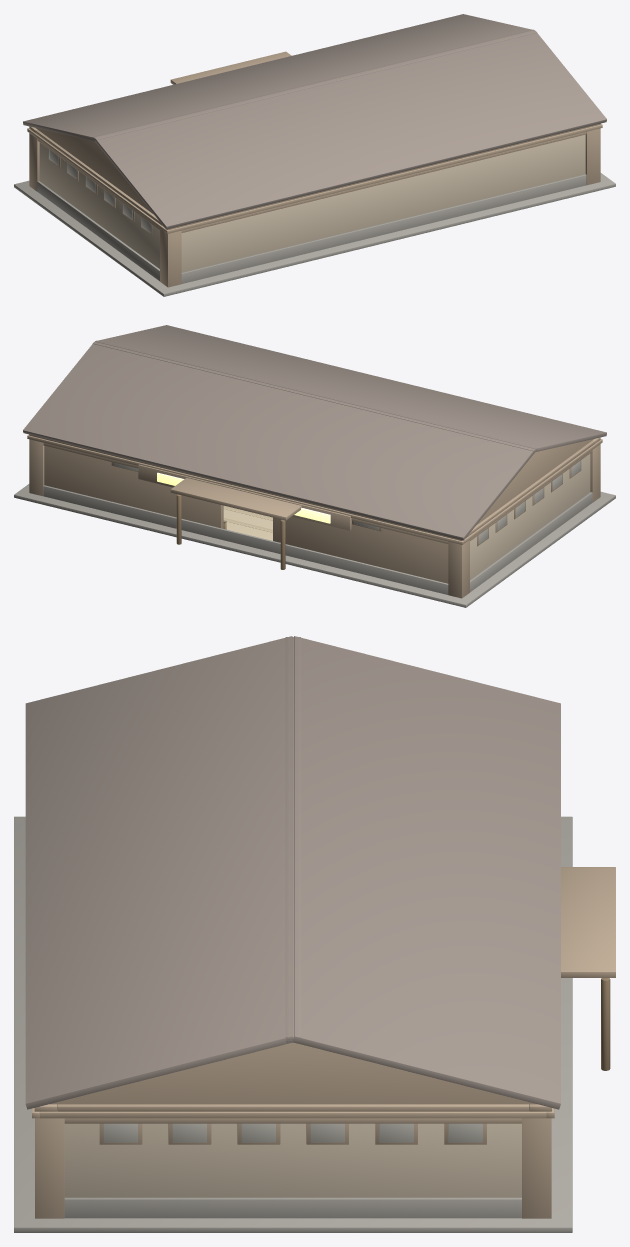
The model's file is th19_reithalle.glb.
3 views of the same model, one above another, from view 1: azimuth 30°, elevation 25°; view 2: azimuth 150°, elevation 25°; view 3: azimuth 270°, elevation 25° (orthographic). The views are drawn at different scales.
Parts seen in each view (by area): view 1: Cube.496, Cube.437, Cube.497, Cube, Cube.444, Cube.438, Cube.452, Giebel, Cube.446, Cube.498, Cube.448, Cube.440 (+6 smaller); view 2: Cube.497, Cube.496, Cube, Cube.434, Cube.435, Cube.445, Cube.438, Cube.543, Giebel, Cube.453, Cube.446, Cube.498 (+10 smaller); view 3: Cube.496, Cube.497, Cube.439, Cube, Giebel.001, Cube.447, Cube.543, Cube.455, Cube.495, Cube.498, Cube.442, Cube.443 (+8 smaller).
Part boxes in pixels (x1,y1,x2,y2): Cube.496: (94, 30, 606, 229); Cube.437: (181, 134, 585, 272); Cube.497: (23, 14, 534, 140); Cube: (14, 173, 615, 296); Cube.444: (181, 174, 586, 283); Cube.438: (39, 143, 159, 268); Cube.452: (165, 124, 602, 233); Giebel: (36, 128, 153, 214); Cube.446: (37, 181, 159, 281); Cube.498: (92, 29, 537, 142); Cube.448: (181, 132, 586, 232); Cube.440: (160, 229, 181, 287); Cube.497: (23, 341, 534, 540); Cube.496: (95, 325, 606, 451); Cube: (14, 484, 615, 607); Cube.434: (273, 516, 448, 583); Cube.435: (44, 445, 223, 528); Cube.445: (43, 485, 448, 594); Cube.438: (470, 454, 590, 579); Cube.543: (170, 478, 301, 520); Giebel: (476, 439, 593, 525); Cube.453: (27, 435, 464, 544); Cube.446: (470, 492, 592, 592); Cube.498: (92, 340, 537, 452); Cube.496: (25, 636, 293, 1109); Cube.497: (293, 636, 560, 1109); Cube.439: (64, 1123, 521, 1197); Cube: (14, 816, 572, 1232); Giebel.001: (49, 1042, 536, 1104); Cube.447: (64, 1197, 521, 1218); Cube.543: (561, 867, 615, 977); Cube.455: (40, 1111, 546, 1118); Cube.495: (57, 1104, 528, 1111); Cube.498: (285, 637, 300, 1042); Cube.442: (35, 1118, 64, 1218); Cube.443: (522, 1118, 551, 1218).
Bounding box in the file's own units: 47 × 10.21 × 29.1.
